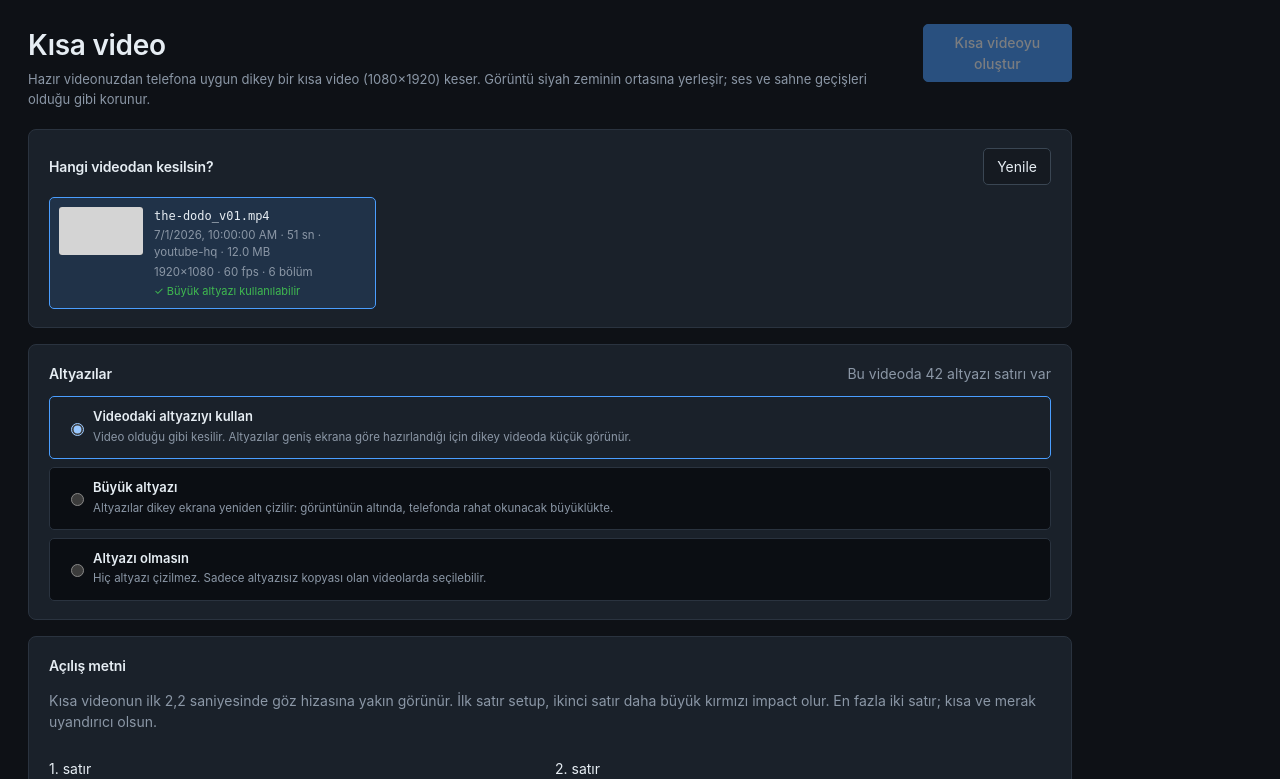
Scenario: ShortsPage captions › a Shorts-ready render › reveals the style selector only once large captions are on
Expected: the radio button labelled "the-dodo_v01.mp4" is shown, [49,197,376,309]
Click the radio button labelled "Büyük altyazı" at (78, 500), box [67,493,88,506]
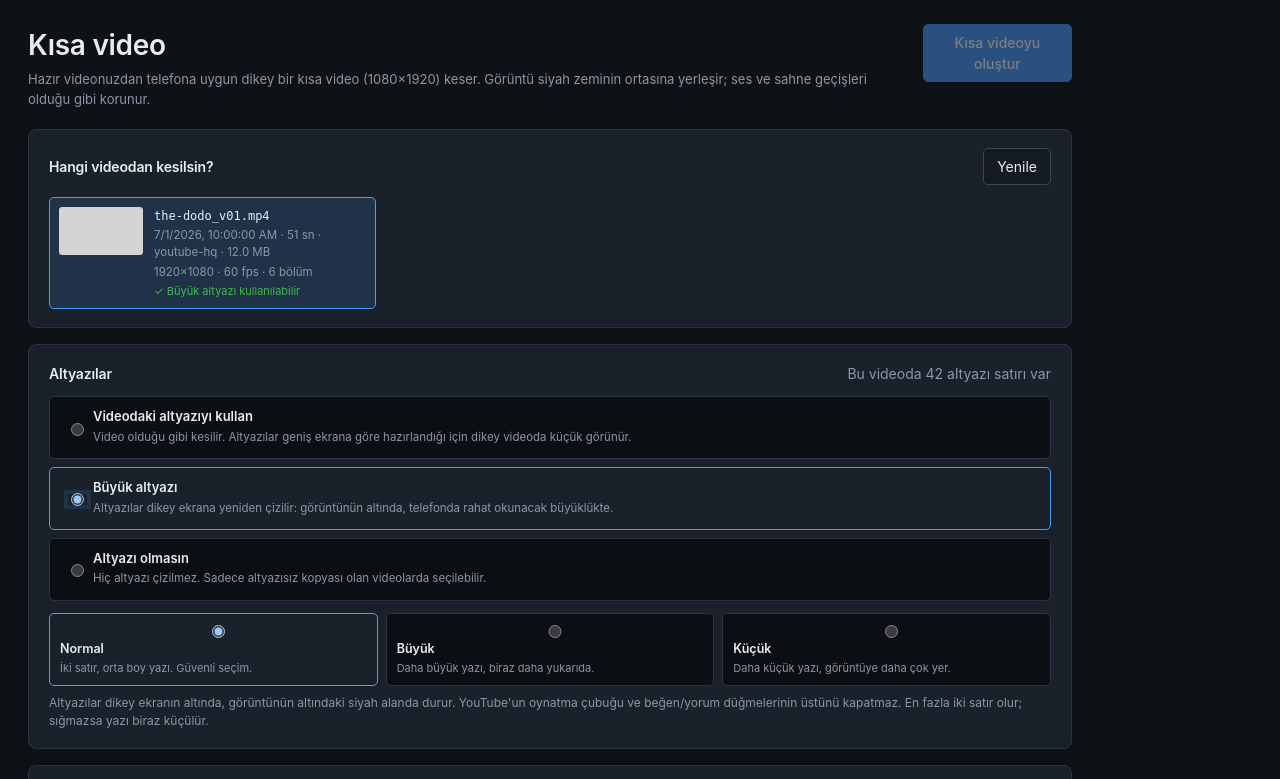
Result: the radio button with aria-label "Normal altyazı boyutu" is checked at [65,624,372,638]
Result: the radio button with aria-label "Büyük altyazı boyutu" is shown at [402,624,708,638]
Result: the radio button with aria-label "Küçük altyazı boyutu" is shown at [738,624,1045,638]
